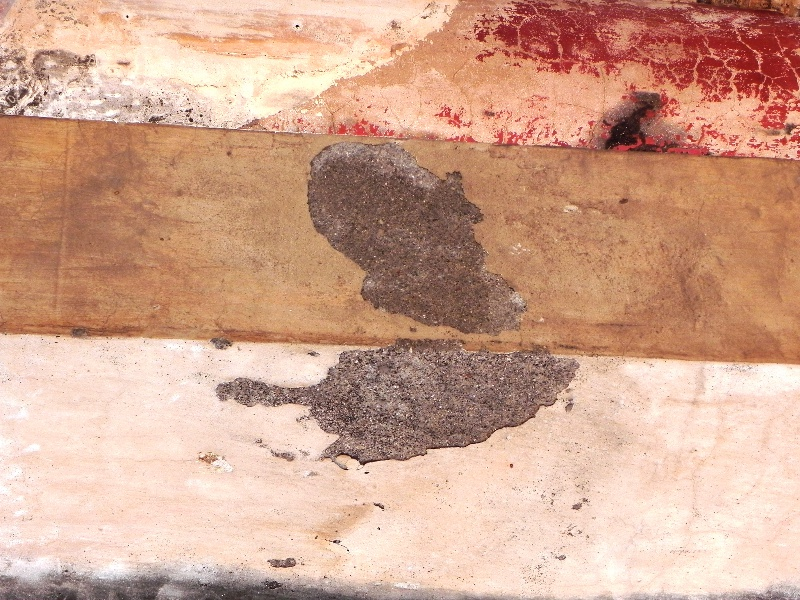Spalling: (291, 135, 543, 336), (208, 336, 583, 469)
